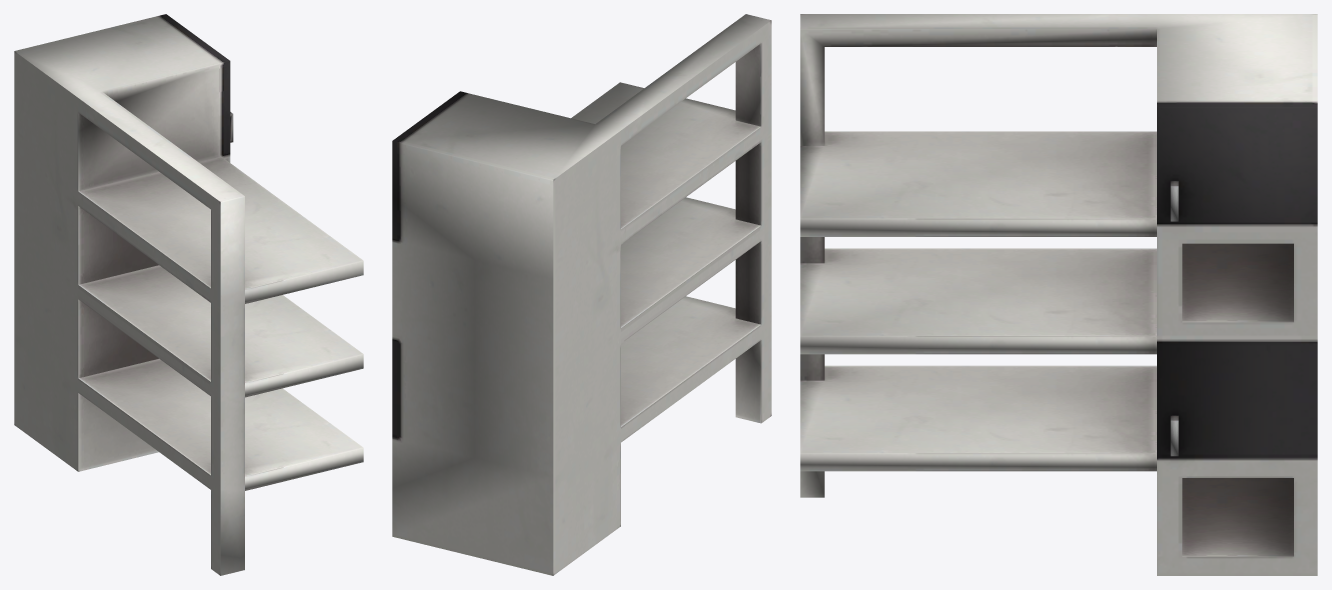
File: Shelf04.FBX
3 views of the same model, side by side, from view 1: azimuth 30°, elevation 25°; view 2: azimuth 150°, elevation 25°; view 3: azimuth 270°, elevation 25° (orthographic). The views are drawn at different scales.
Visible parts, largest first — view 1: Shelf04; view 2: Shelf04; view 3: Shelf04.
Boxes of the visible parts, x1,y1,x2,y2 form: Shelf04: [14, 14, 363, 575]; Shelf04: [392, 14, 771, 575]; Shelf04: [800, 14, 1317, 575].
Size of the model in its own units: 0.8979 by 2 by 2.
